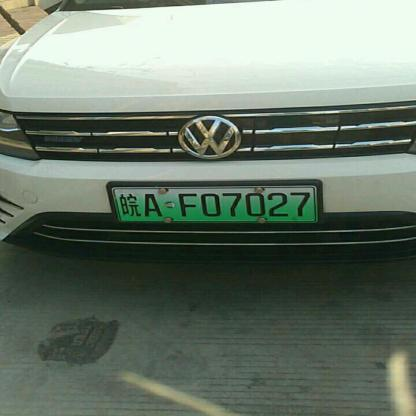lp: (112, 186, 316, 221)
